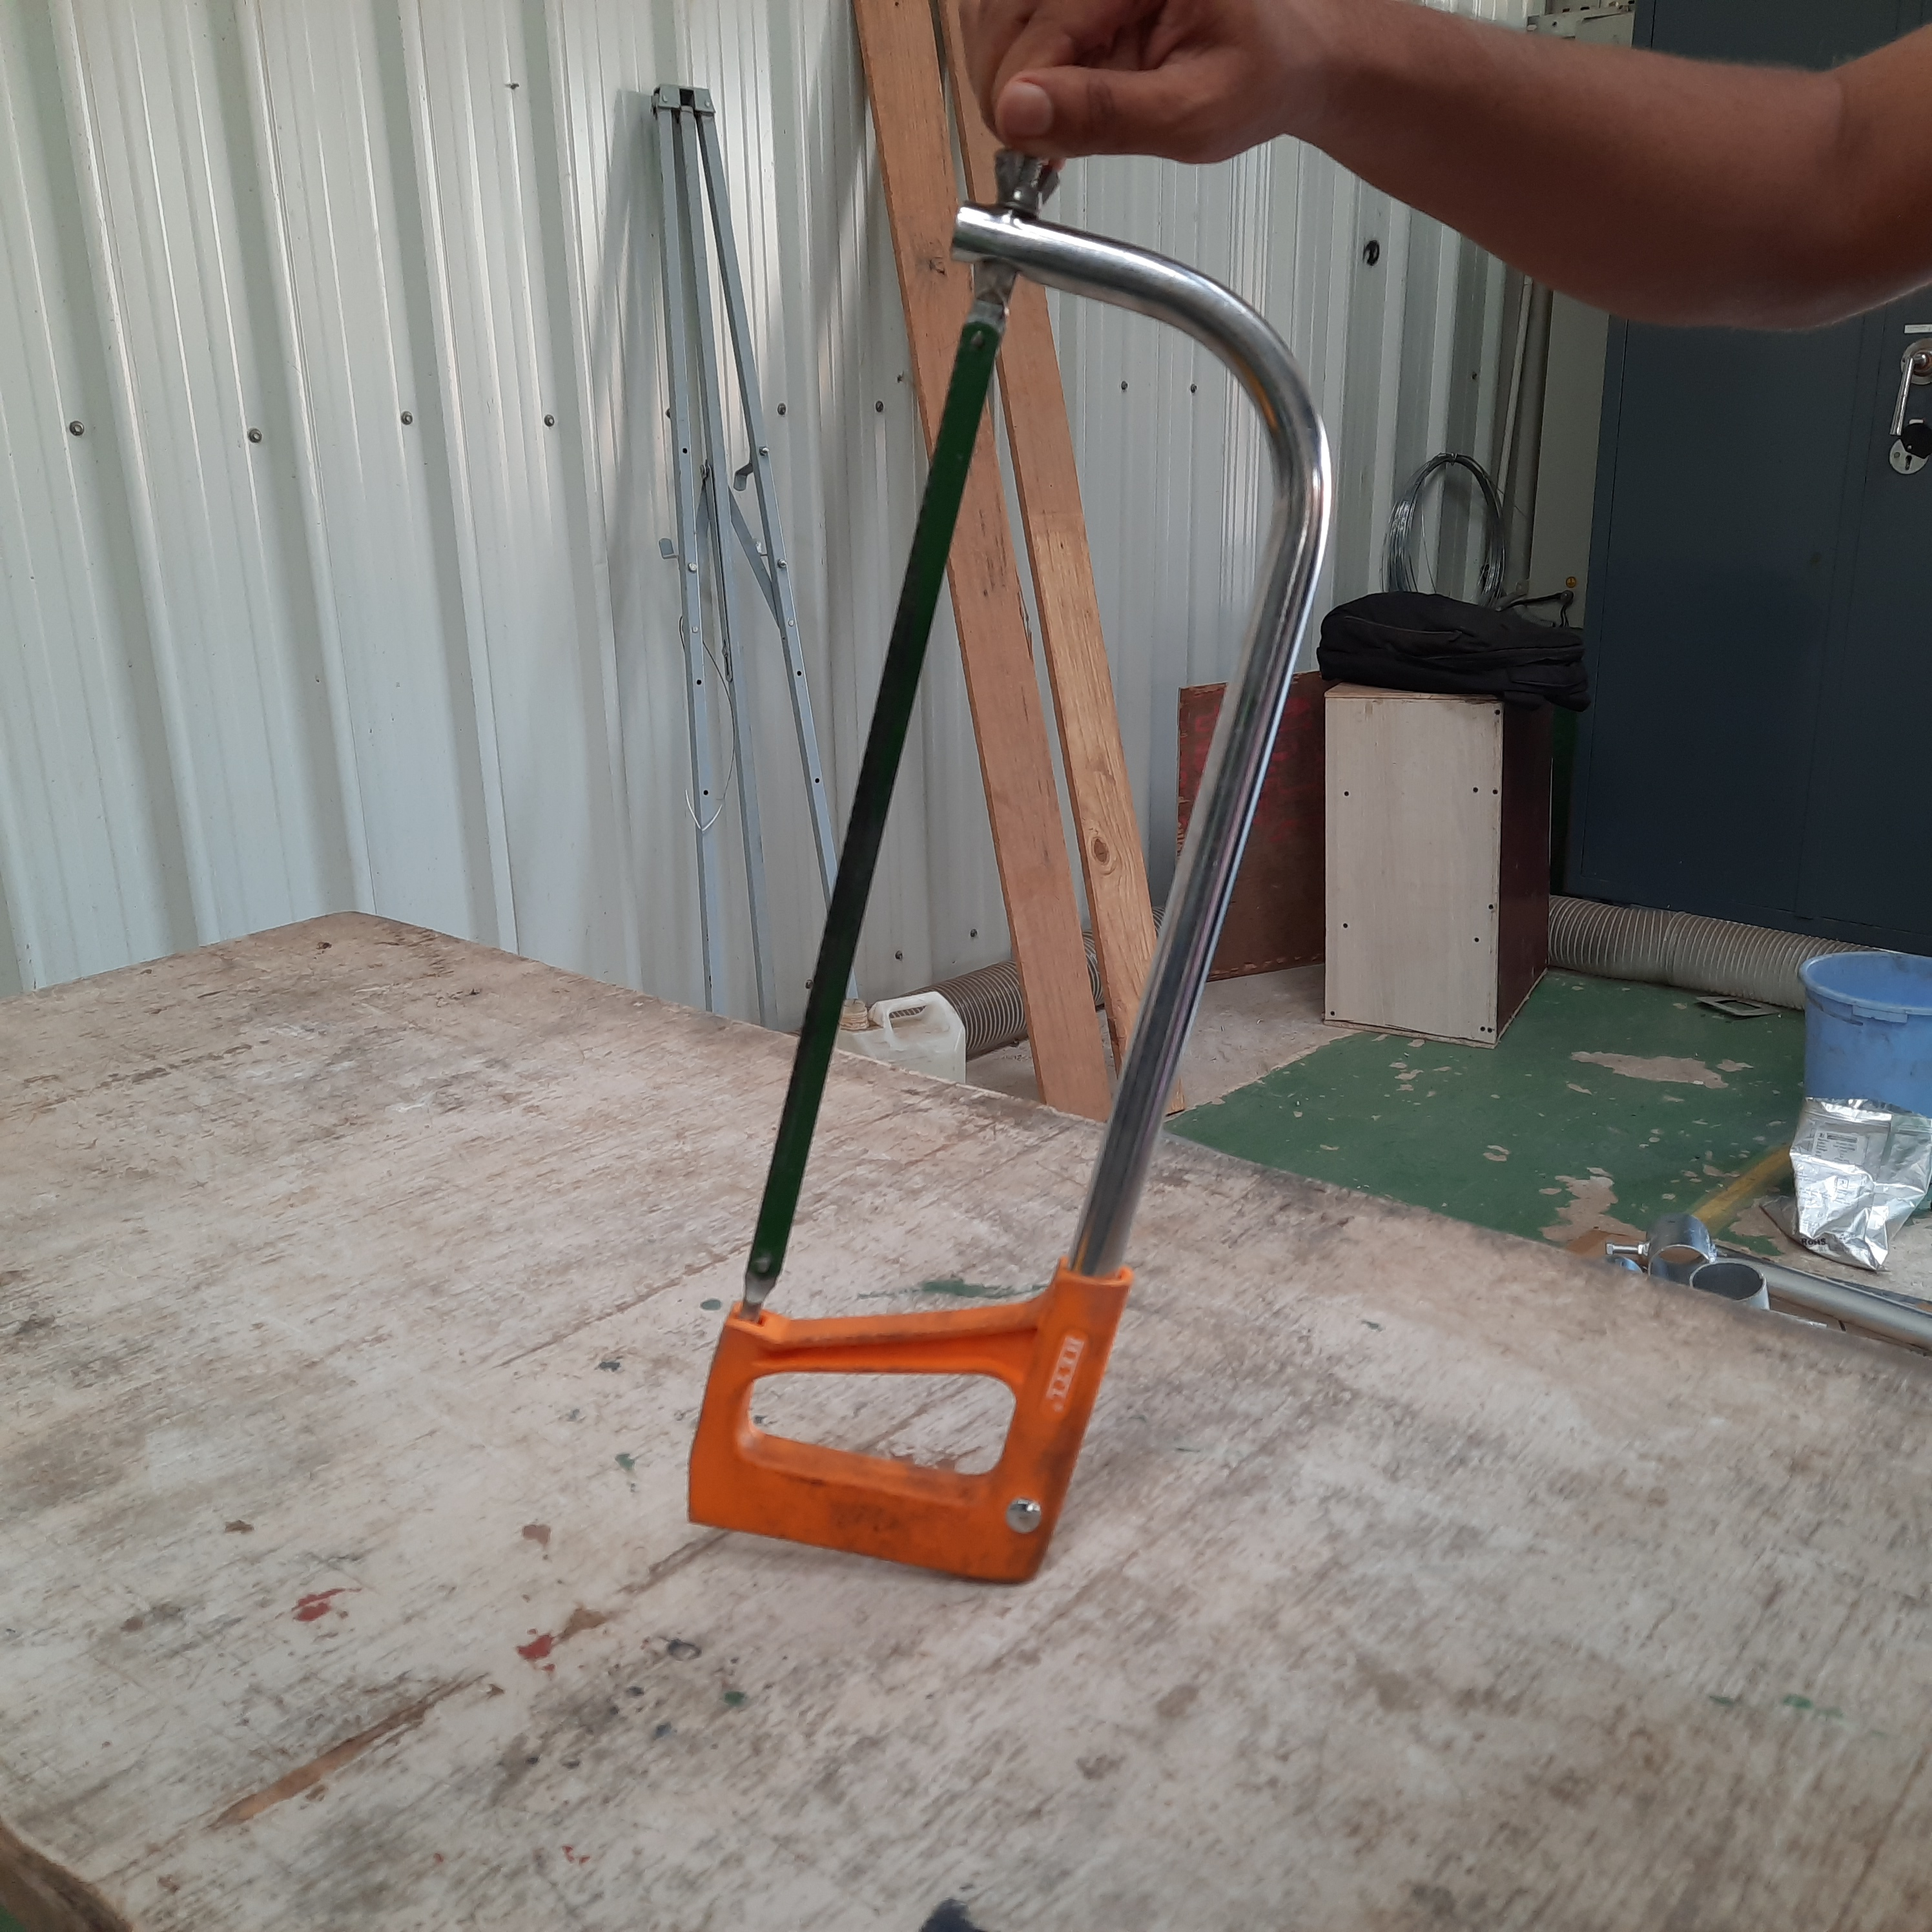Hexaframe: (674, 152, 1359, 1629)
